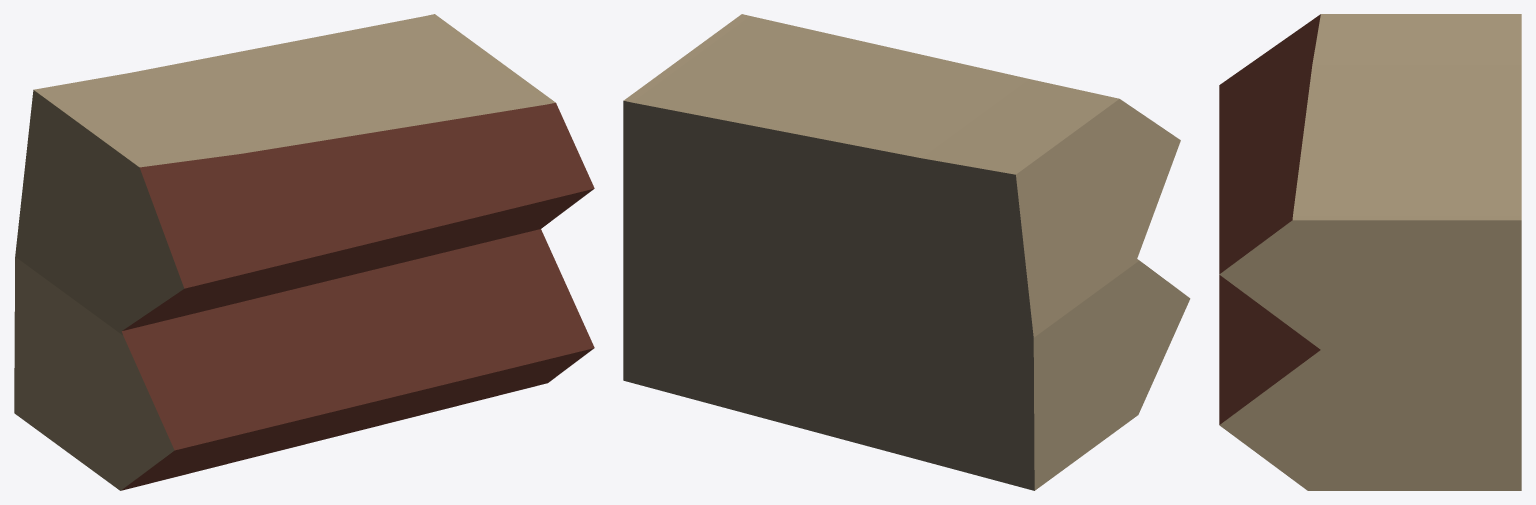
Rendered from SM_GLMedieval_NorthMarketMassing_west_d08bbb3b.obj.
3 renders of one model, left to right at view 1: azimuth 30°, elevation 25°; view 2: azimuth 150°, elevation 25°; view 3: azimuth 270°, elevation 25°, orthographic. The views are drawn at different scales.
Size of the model in its own units: 18.52 by 13.42 by 12.2.
